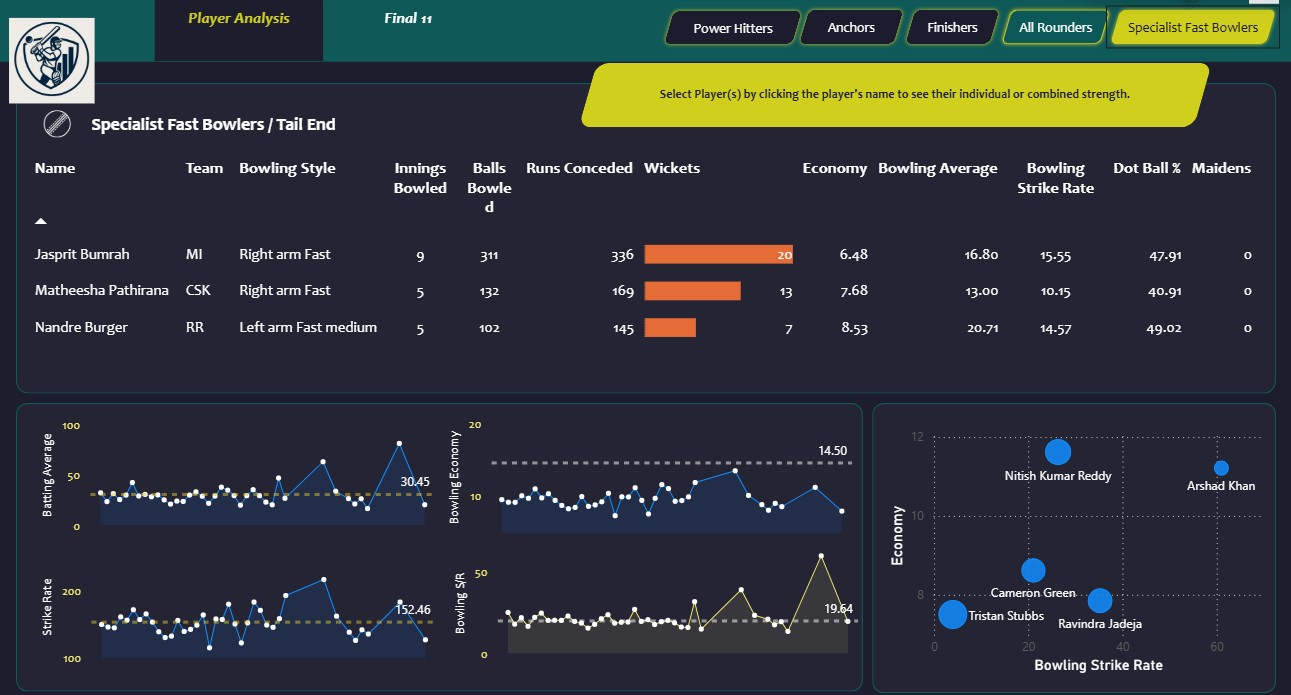

The dashboard page shown, as its layout file describes it:
{"tool":"powerbi","page":{"name":"Final 11","canvas":[1280,720],"ordinal":5},"visuals":[{"type":"shape","box":[0,83,1279.4,637.5],"z":0},{"type":"shape","box":[0,0,1278.9,87.1],"z":1000},{"type":"shape","box":[7,122.9,196,585.1],"z":1000,"group":"g1"},{"type":"group","id":"g1","title":"Group 1","box":[7,122.9,196,585.2],"z":2000},{"type":"actionButton","title":"Button Player Ana selected","box":[156.3,0,165.4,86.5],"z":3000},{"type":"actionButton","box":[784.6,32.5,111,42],"z":4000},{"type":"actionButton","box":[651.1,32.9,144.2,41],"z":5000},{"type":"actionButton","box":[888.6,32.5,101,42],"z":6000},{"type":"actionButton","box":[982.6,32.5,115,42],"z":7000},{"type":"actionButton","box":[1089.6,32.5,171,42],"z":8000},{"type":"pivotTable","fields":{"Values":["Min(player_info.team)","Min(player_info.battingStyle)","Min(player_info.playingRole)","Min(player_info.bowlingStyle)","Key_Measures.Batting Average","Key_Measures.Strike Rate","Key_Measures.Bowling Economy","Key_Measures.Bowling Strike Rate","Key_Measures.Bowling Average"],"Rows":["player_info.name"]},"box":[219.9,85.4,1048,501.1],"z":10000},{"type":"slicer","fields":{"Values":["player_info.name"]},"box":[20.3,146.4,170,561.7],"z":11000,"group":"g1"},{"type":"actionButton","title":"Button Player Ana selected","box":[321.8,1.5,167,85],"z":19000},{"type":"shape","box":[220,613.3,1000,63.3],"z":59000},{"type":"card","fields":{"Values":["Key_Measures.Avergate Balls Faced"]},"box":[640,616.7,110,56.7],"z":59500},{"type":"card","fields":{"Values":["Key_Measures.Bowling Strike Rate"]},"box":[886.7,615,93.3,60],"z":60000},{"type":"card","fields":{"Values":["Key_Measures.Bowling Average"]},"box":[771.7,616.7,90,60],"z":60500},{"type":"shape","box":[240,628.3,173.3,35],"z":61000},{"type":"card","fields":{"Values":["Key_Measures.Batting Average"]},"box":[430,615,93.3,60],"z":61500},{"type":"card","fields":{"Values":["Key_Measures.Strike Rate"]},"box":[523.3,615,93.3,60],"z":62000},{"type":"card","fields":{"Values":["Key_Measures.Bowling Economy"]},"box":[1000,616.7,93.3,60],"z":62500},{"type":"card","fields":{"Values":["Key_Measures.Dot Ball %"]},"box":[1108.3,616.7,93.3,60],"z":63000}]}

Visuals, with their boxes on the page's 1280x720 design canvas (x1, y1, x2, y2). These are canvas units, not pixel positions in the 1291x695 screenshot, which may show the page scaled, cropped or inside an application window:
shape: 0/83/1279/720
shape: 0/0/1279/87
shape: 7/123/203/708
"Group 1" group: 7/123/203/708
"Button Player Ana selected" actionButton: 156/0/322/86
actionButton: 785/32/896/74
actionButton: 651/33/795/74
actionButton: 889/32/990/74
actionButton: 983/32/1098/74
actionButton: 1090/32/1261/74
pivotTable - Min(player_info.team) x Min(player_info.battingStyle): 220/85/1268/586
slicer - player_info.name: 20/146/190/708
"Button Player Ana selected" actionButton: 322/2/489/86
shape: 220/613/1220/677
card - Key_Measures.Avergate Balls Faced: 640/617/750/673
card - Key_Measures.Bowling Strike Rate: 887/615/980/675
card - Key_Measures.Bowling Average: 772/617/862/677
shape: 240/628/413/663
card - Key_Measures.Batting Average: 430/615/523/675
card - Key_Measures.Strike Rate: 523/615/617/675
card - Key_Measures.Bowling Economy: 1000/617/1093/677
card - Key_Measures.Dot Ball %: 1108/617/1202/677
